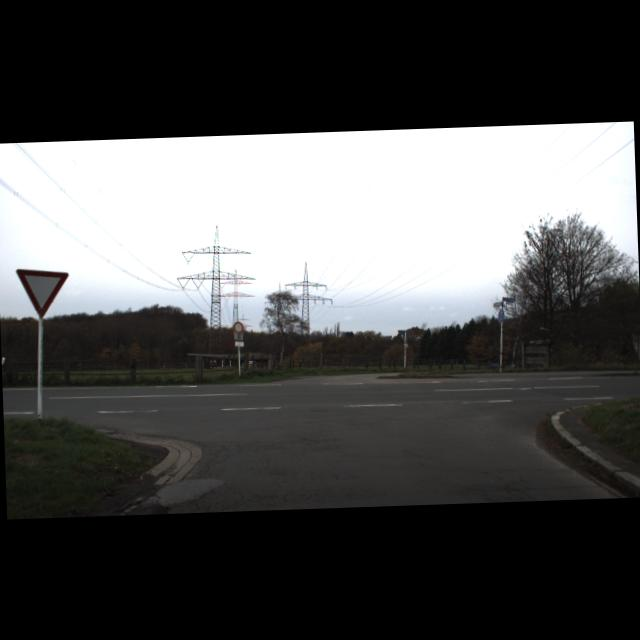other: (15, 266, 70, 317)
prohibitory: (233, 321, 243, 333)
